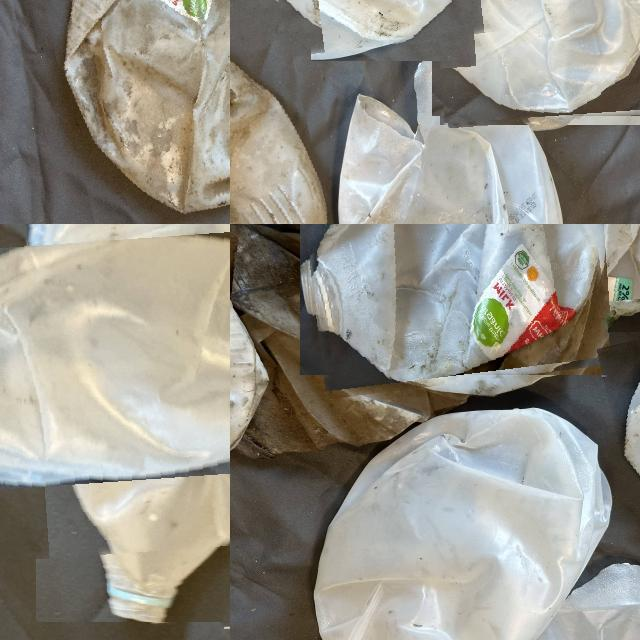milk-jug: (0, 224, 230, 557), (308, 403, 611, 640), (300, 224, 604, 391), (47, 0, 230, 224), (342, 84, 583, 224), (432, 0, 640, 124), (230, 0, 329, 224), (247, 0, 495, 51), (506, 558, 640, 640), (230, 250, 266, 504)
